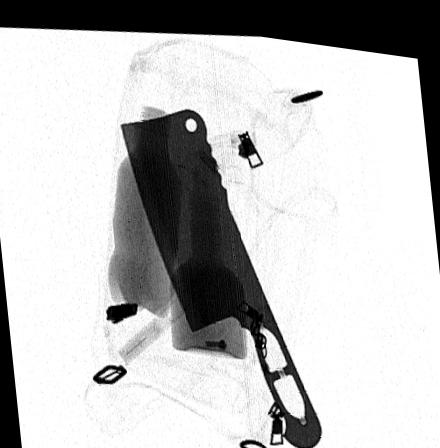Knife: (119, 100, 324, 441)
